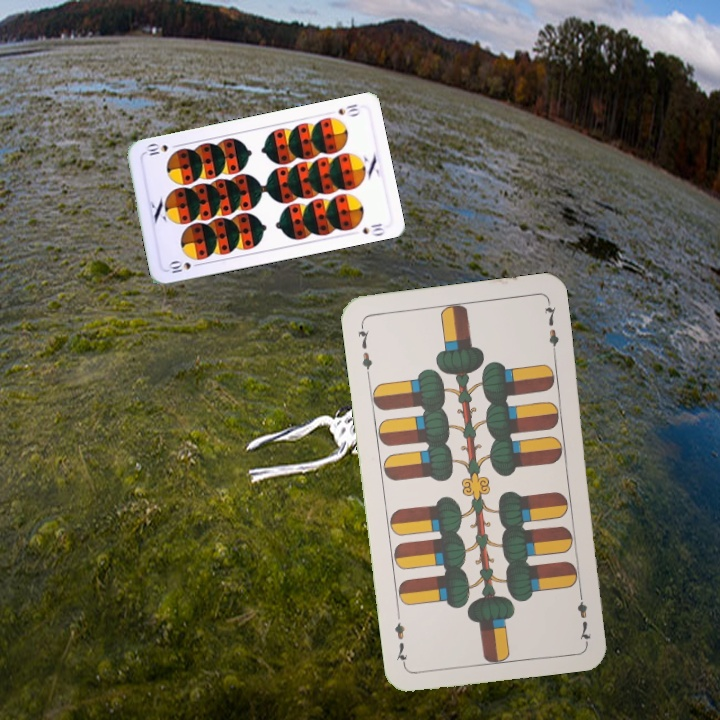E7: (353, 320, 375, 379), (573, 585, 593, 644)
S10: (165, 257, 204, 276), (334, 100, 363, 119)
